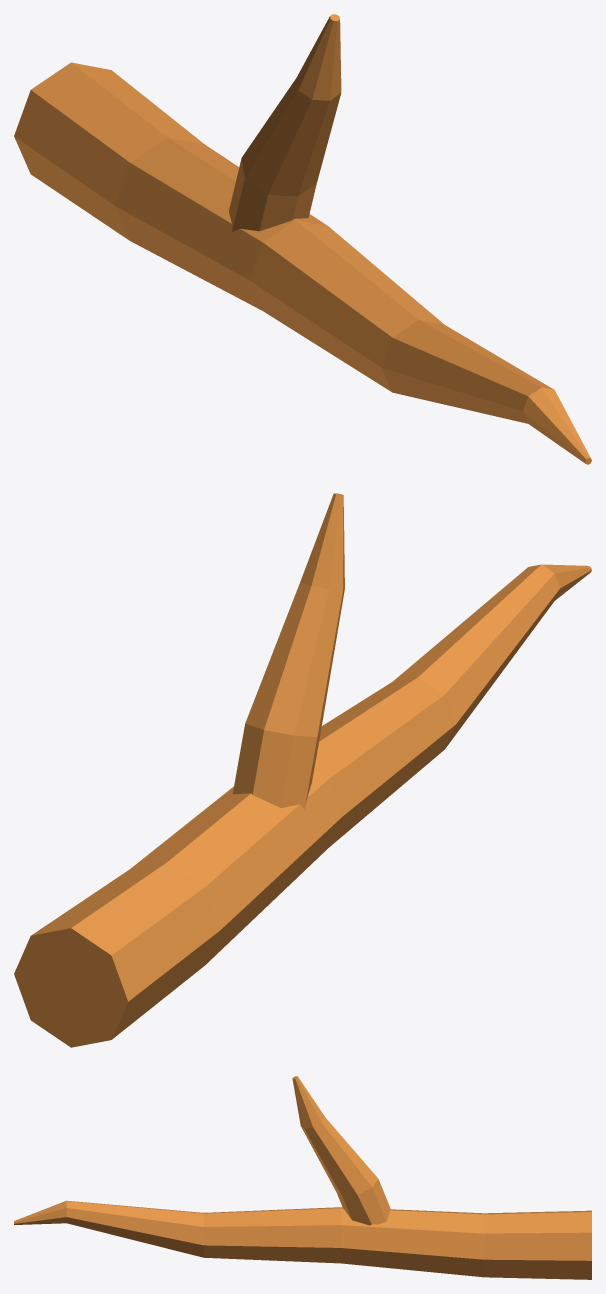
File: branch1.fbx
3 views of the same model, one above another, from view 1: azimuth 30°, elevation 25°; view 2: azimuth 150°, elevation 25°; view 3: azimuth 270°, elevation 25° (orthographic). The views are drawn at different scales.
Parts seen in each view (by area): view 1: Branch; view 2: Branch; view 3: Branch.
Part boxes in pixels (bbox=[...]): Branch: bbox=[14, 14, 591, 464]; Branch: bbox=[14, 493, 591, 1047]; Branch: bbox=[14, 1076, 591, 1279].
Size of the model in its own units: 98.23 by 297 by 771.
